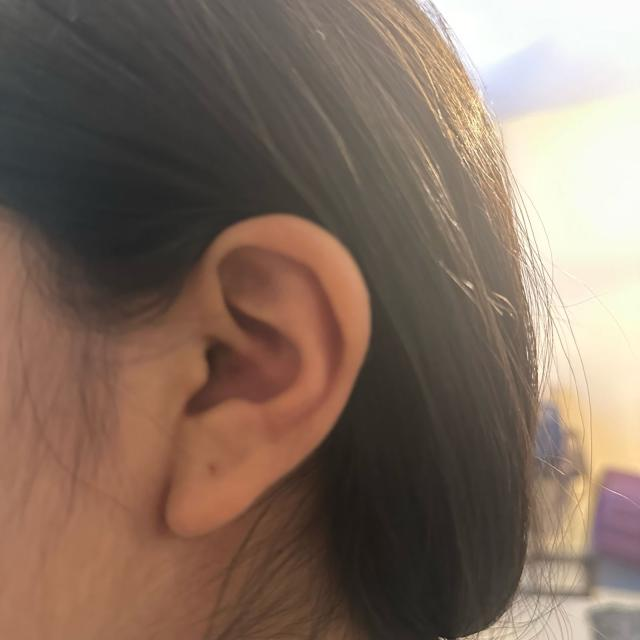ear: (148, 215, 371, 538)
